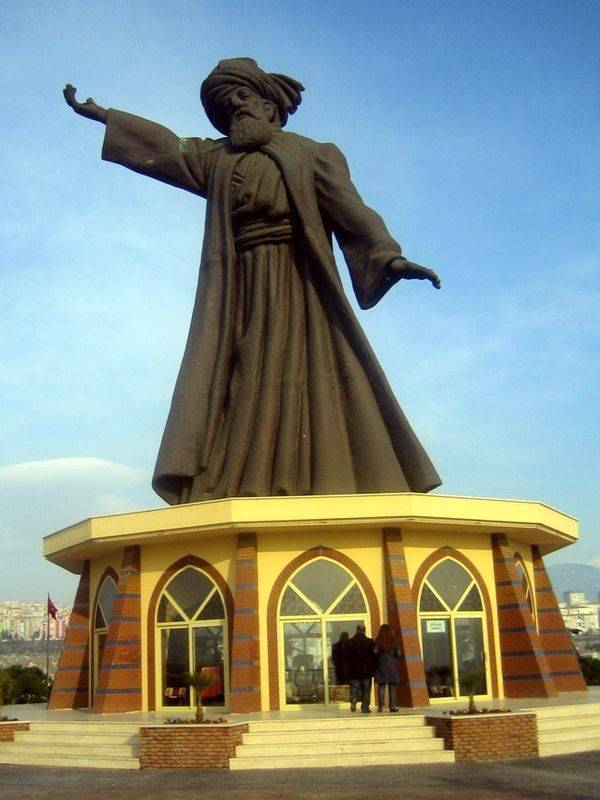person: (342, 621, 382, 716), (369, 617, 407, 715)
person-like: (50, 41, 466, 528)
